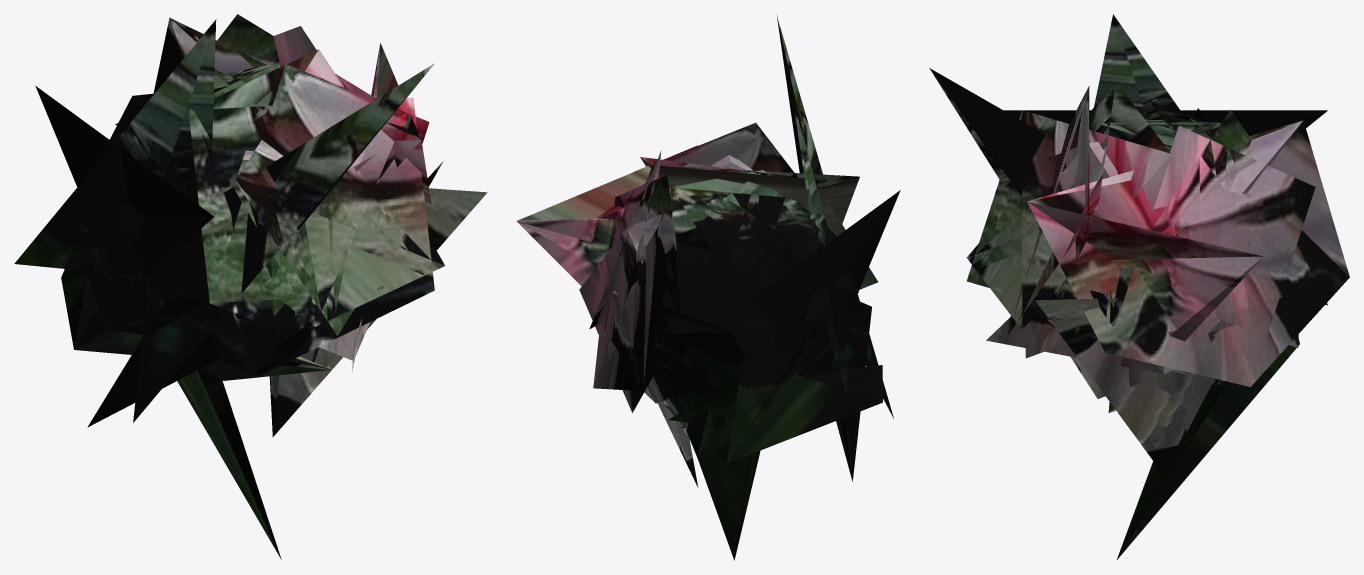
Rendered from flor11.gltf.
3 renders of one model, left to right at view 1: azimuth 30°, elevation 25°; view 2: azimuth 150°, elevation 25°; view 3: azimuth 270°, elevation 25°, orthographic. The views are drawn at different scales.
Visible parts, largest first — view 1: Icosphere; view 2: Icosphere; view 3: Icosphere.
Boxes of the visible parts, left/top/right/bottom form: Icosphere: left=14, top=14, right=487, bottom=559; Icosphere: left=516, top=15, right=900, bottom=560; Icosphere: left=929, top=14, right=1349, bottom=559.
Bounding box in the file's own units: 2.92 × 4.13 × 3.05.
1 material, 1 textured.
